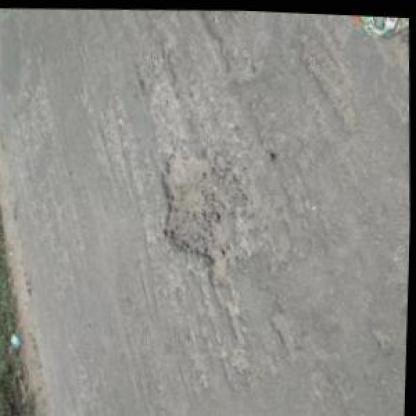pothole: (154, 138, 241, 282)
